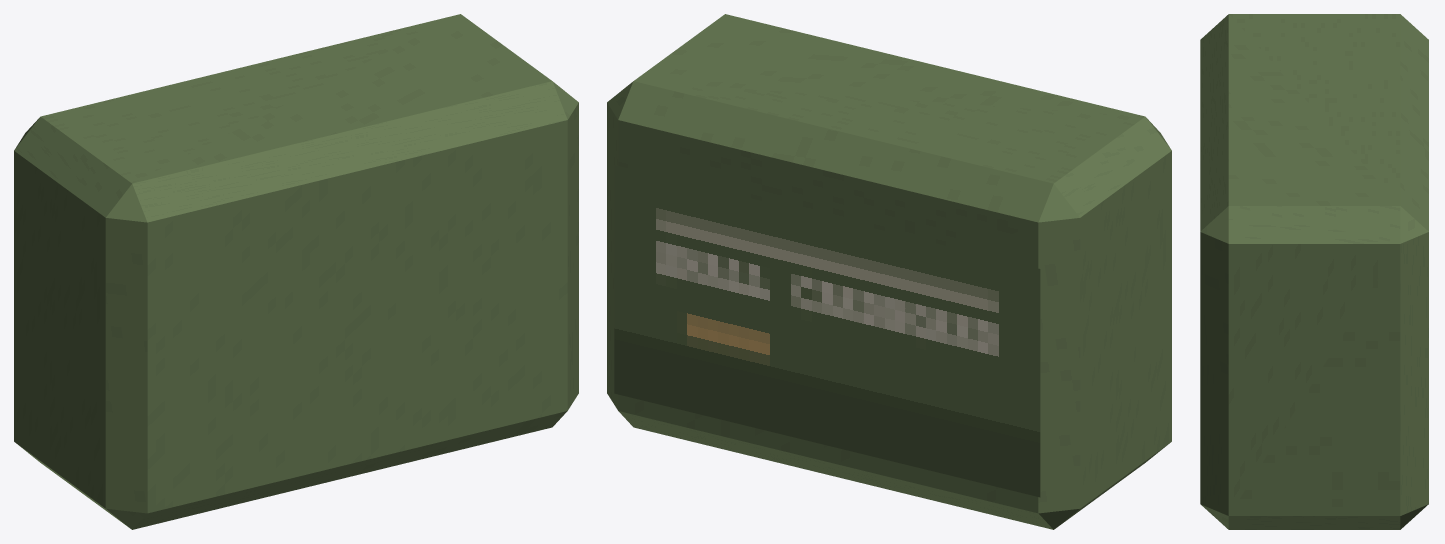
Rendered from box_tea.glb.
3 renders of one model, left to right at view 1: azimuth 30°, elevation 25°; view 2: azimuth 150°, elevation 25°; view 3: azimuth 270°, elevation 25°, orthographic. The views are drawn at different scales.
Visible parts, largest first — view 1: block_cardboard box; view 2: block_cardboard box, block_front panel; view 3: block_cardboard box.
Part boxes in pixels (x1,y1,x2,y2): block_cardboard box: [14, 14, 578, 529]; block_cardboard box: [607, 14, 1171, 529]; block_front panel: [614, 165, 1040, 497]; block_cardboard box: [1200, 14, 1428, 529].
Bounding box in the file's own units: 0.143 × 0.1 × 0.0645.
Materials: 1 (1 with a texture image).
